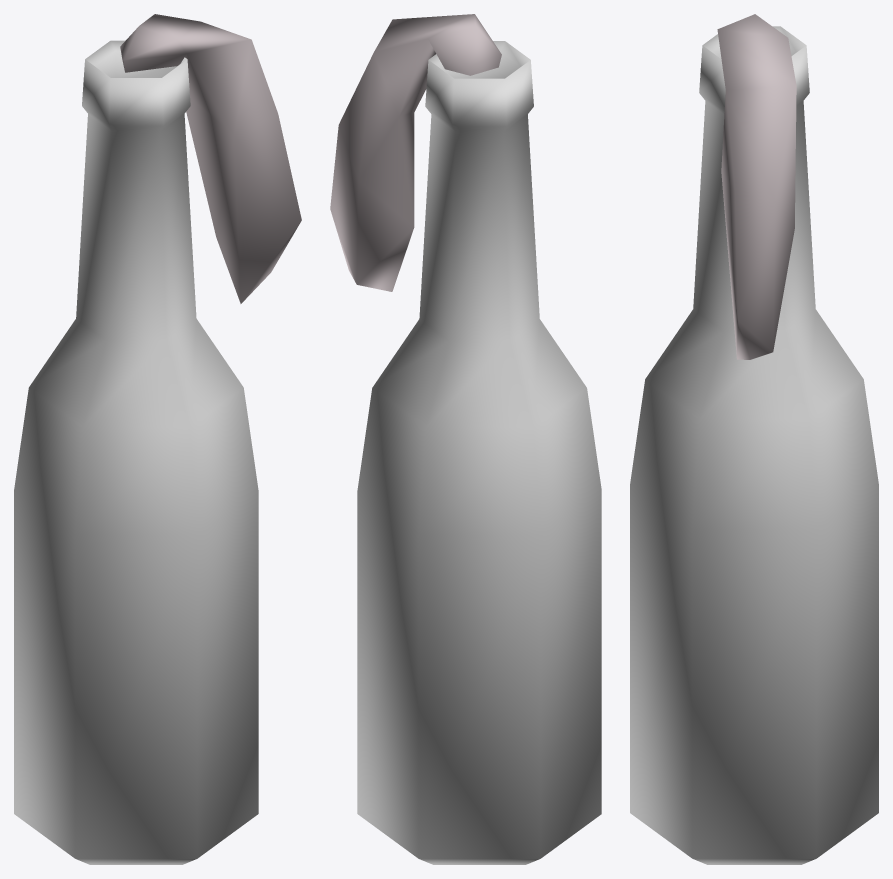
Rendered from Bottle.fbx.
3 renders of one model, left to right at view 1: azimuth 30°, elevation 25°; view 2: azimuth 150°, elevation 25°; view 3: azimuth 270°, elevation 25°, orthographic.
Visible parts, largest first — view 1: Bottle, Rag; view 2: Bottle, Rag; view 3: Bottle, Rag.
Part boxes in pixels (<box>): Bottle: <box>14,40,258,864</box>; Rag: <box>120,14,301,303</box>; Bottle: <box>357,41,601,864</box>; Rag: <box>330,14,501,291</box>; Bottle: <box>630,26,878,864</box>; Rag: <box>717,14,796,359</box>.
Bounding box in the file's own units: 17.45 × 53.8 × 14.82.
